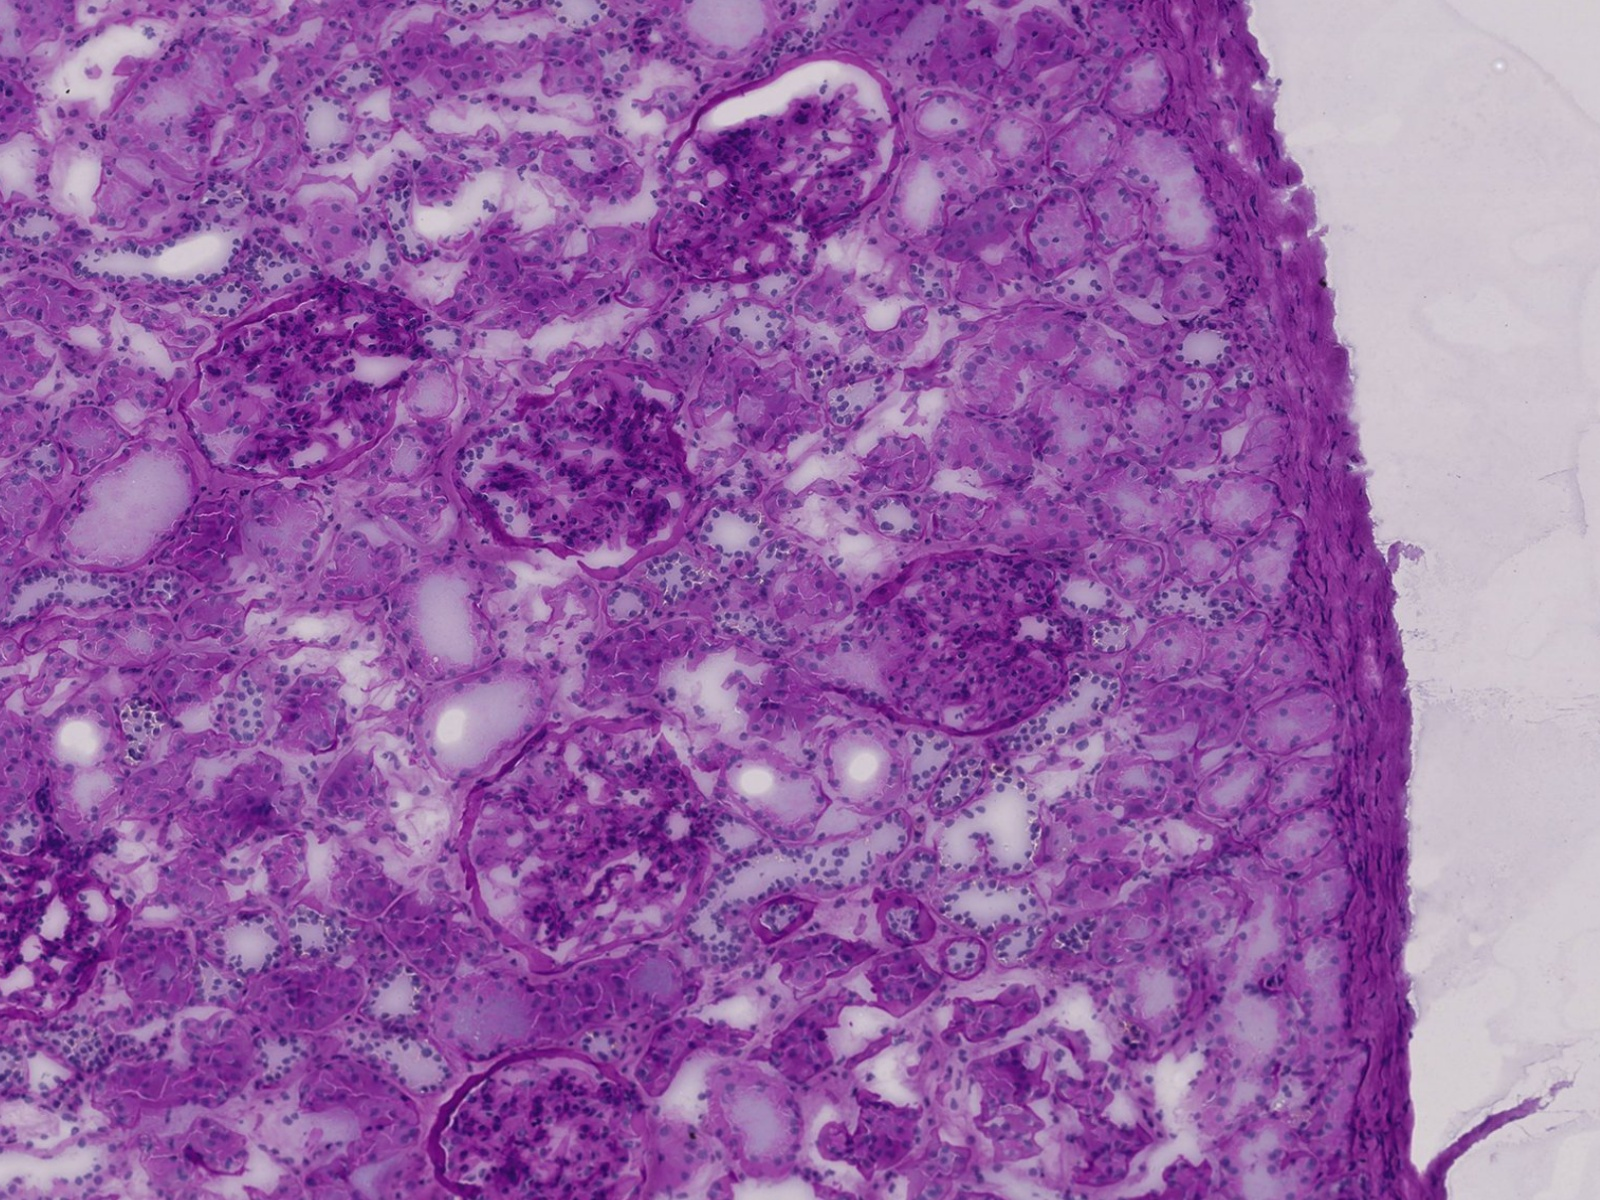Glomeruli: (462, 708, 727, 982), (457, 352, 718, 579), (648, 49, 901, 282), (176, 279, 442, 479), (833, 545, 1095, 737), (426, 1044, 661, 1200), (1, 841, 121, 1026)
